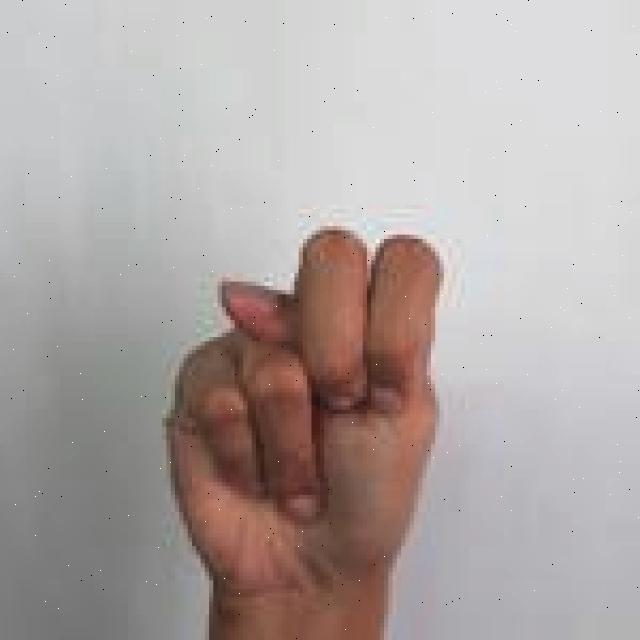N: (165, 216, 446, 640)
